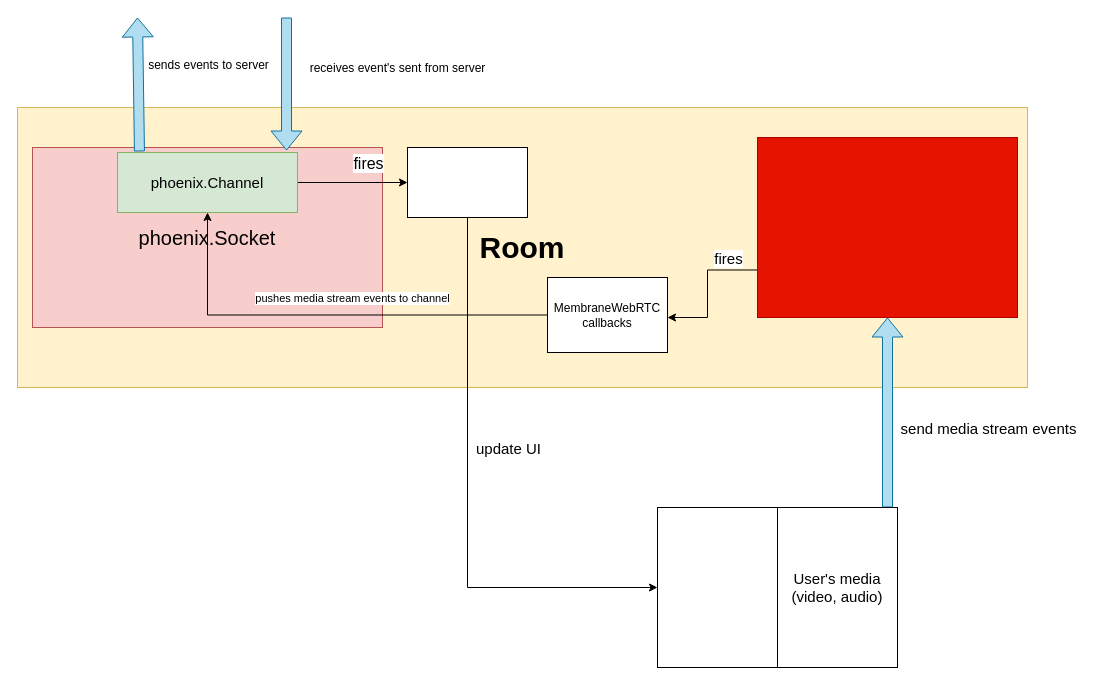
This 1093x685 diagram has some shape labels left out. The shapes that lost their labels are listed below. From the top down, each one's centre as x and y in pixels, then its label:
the point at 467,182: channel's .on() callbacks
the point at 887,227: MembraneWebRTC
the point at 717,587: UI (video tiles, speakers etc.)
